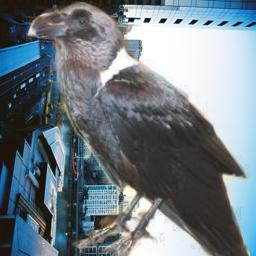Crow: (26, 1, 250, 256)
